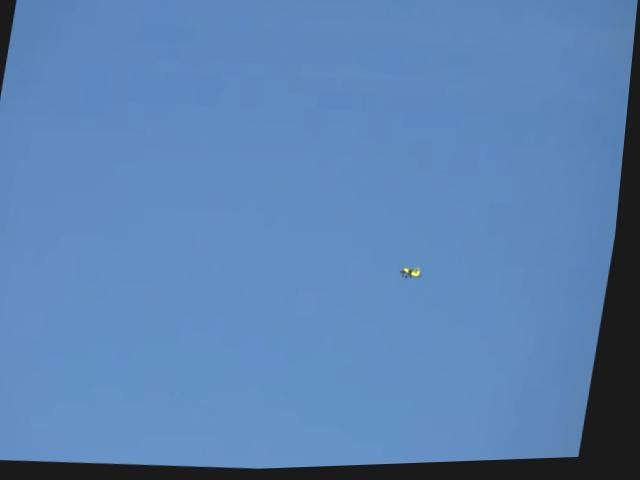plane: (403, 267, 429, 285)
